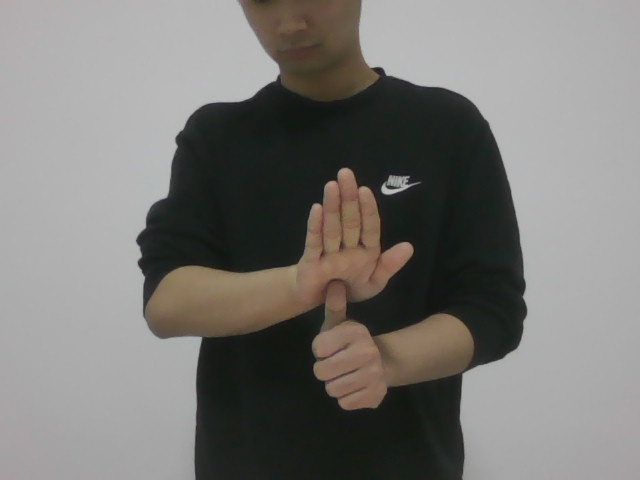love: (289, 169, 421, 414)
